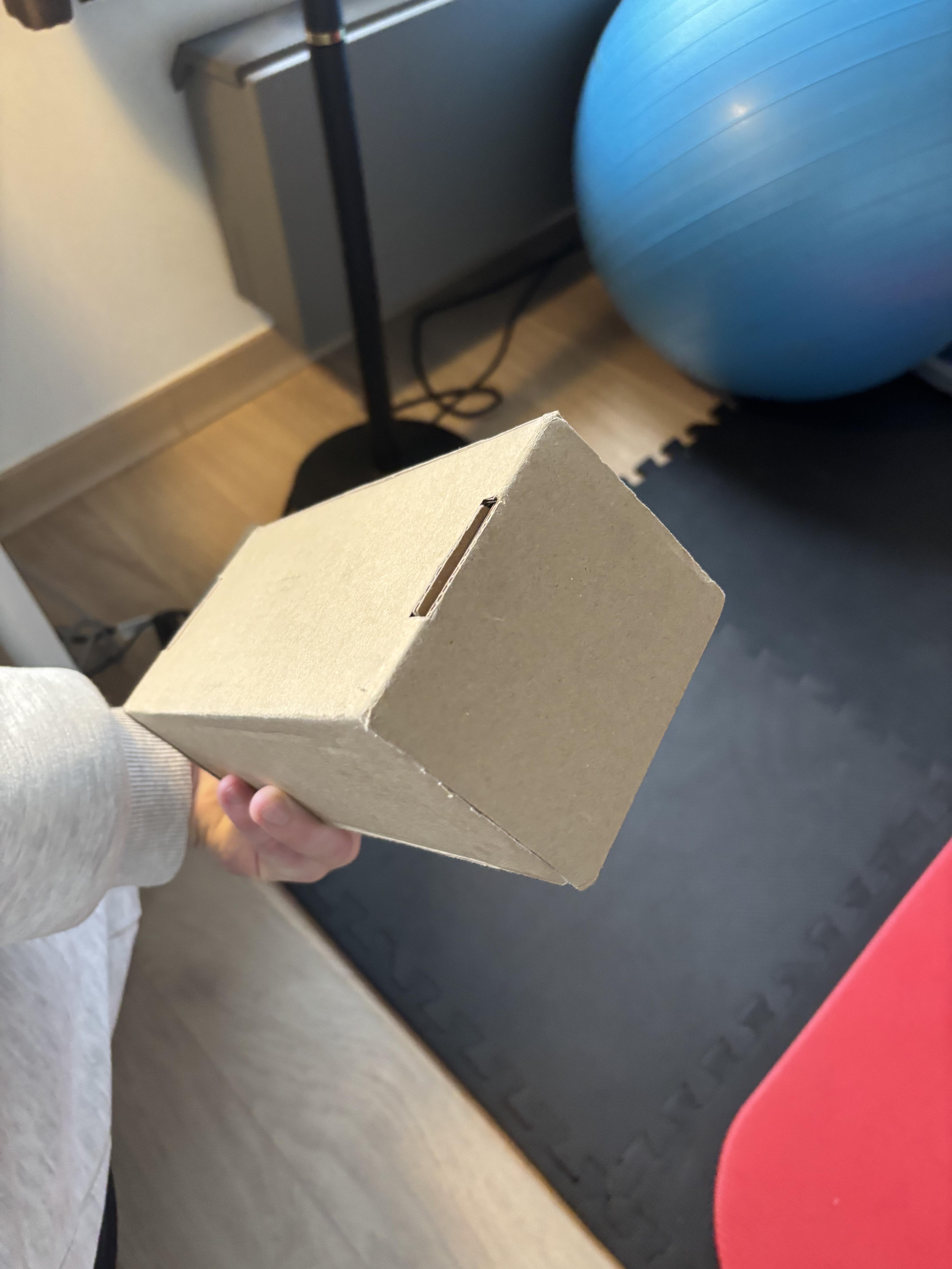Cardboard: (129, 406, 728, 898)
